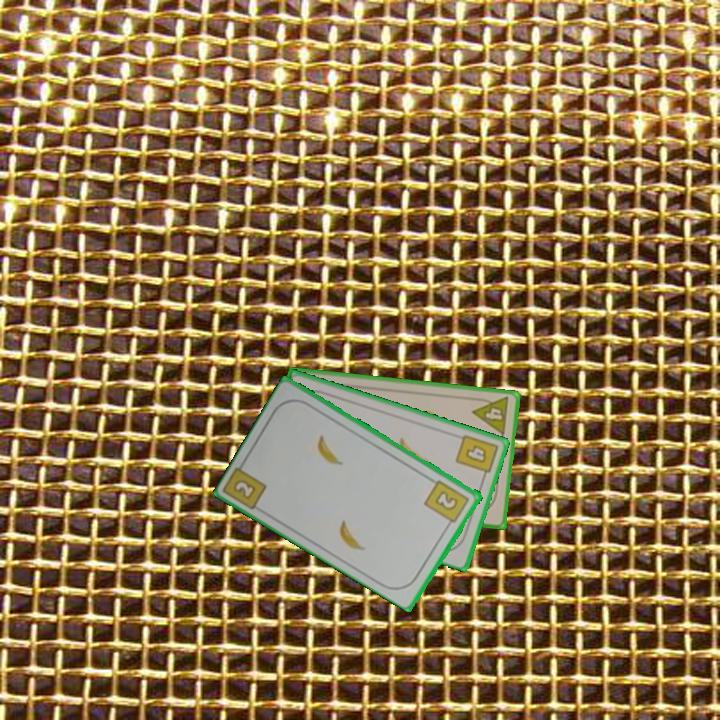2b: (421, 476, 472, 530), (230, 476, 259, 502)
4b: (452, 431, 501, 482)
4p: (469, 393, 512, 438)
